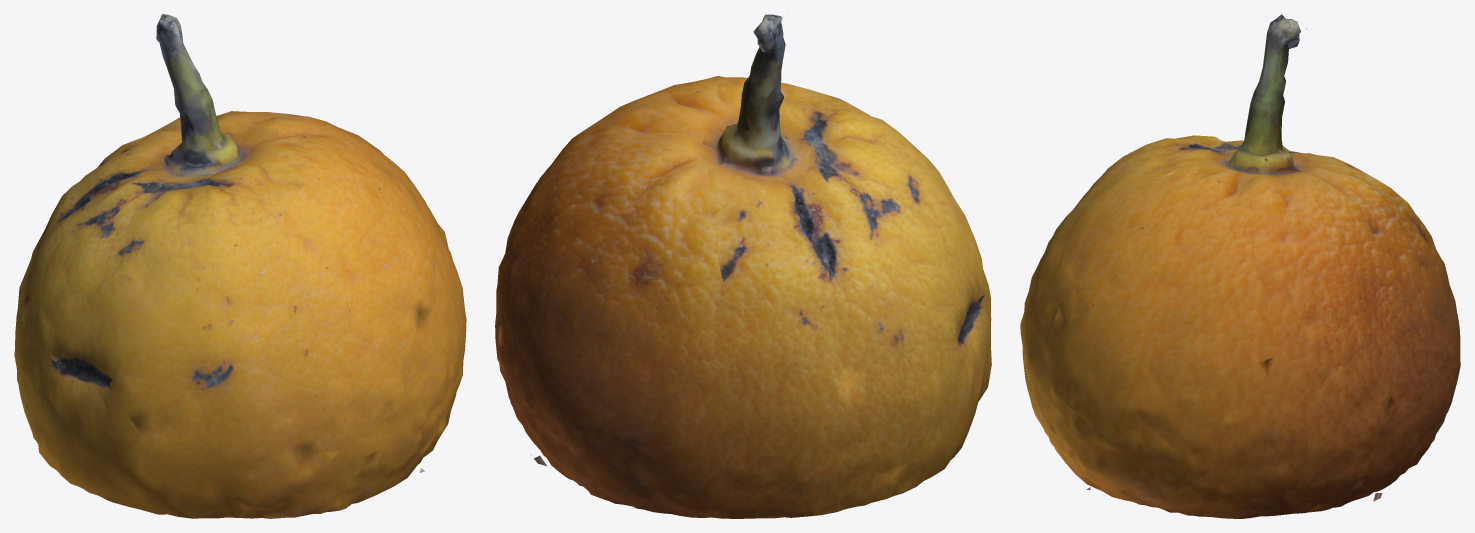
Rendered from orange33.gltf.
3 views of the same model, side by side, from view 1: azimuth 30°, elevation 25°; view 2: azimuth 150°, elevation 25°; view 3: azimuth 270°, elevation 25° (orthographic). The views are drawn at different scales.
Visible parts, largest first — view 1: Orange 3; view 2: Orange 3; view 3: Orange 3.
Boxes of the visible parts, x1,y1,x2,y2 form: Orange 3: (14, 14, 466, 518); Orange 3: (495, 14, 991, 518); Orange 3: (1020, 14, 1460, 518).
Bounding box in the file's own units: 0.4424 × 0.4473 × 0.4425.
1 material, 1 textured.
